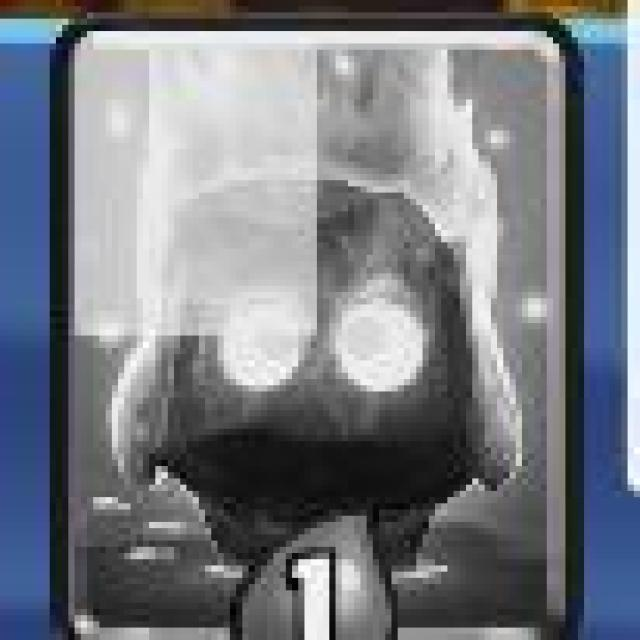Fire_Spirit: (52, 17, 585, 640)
